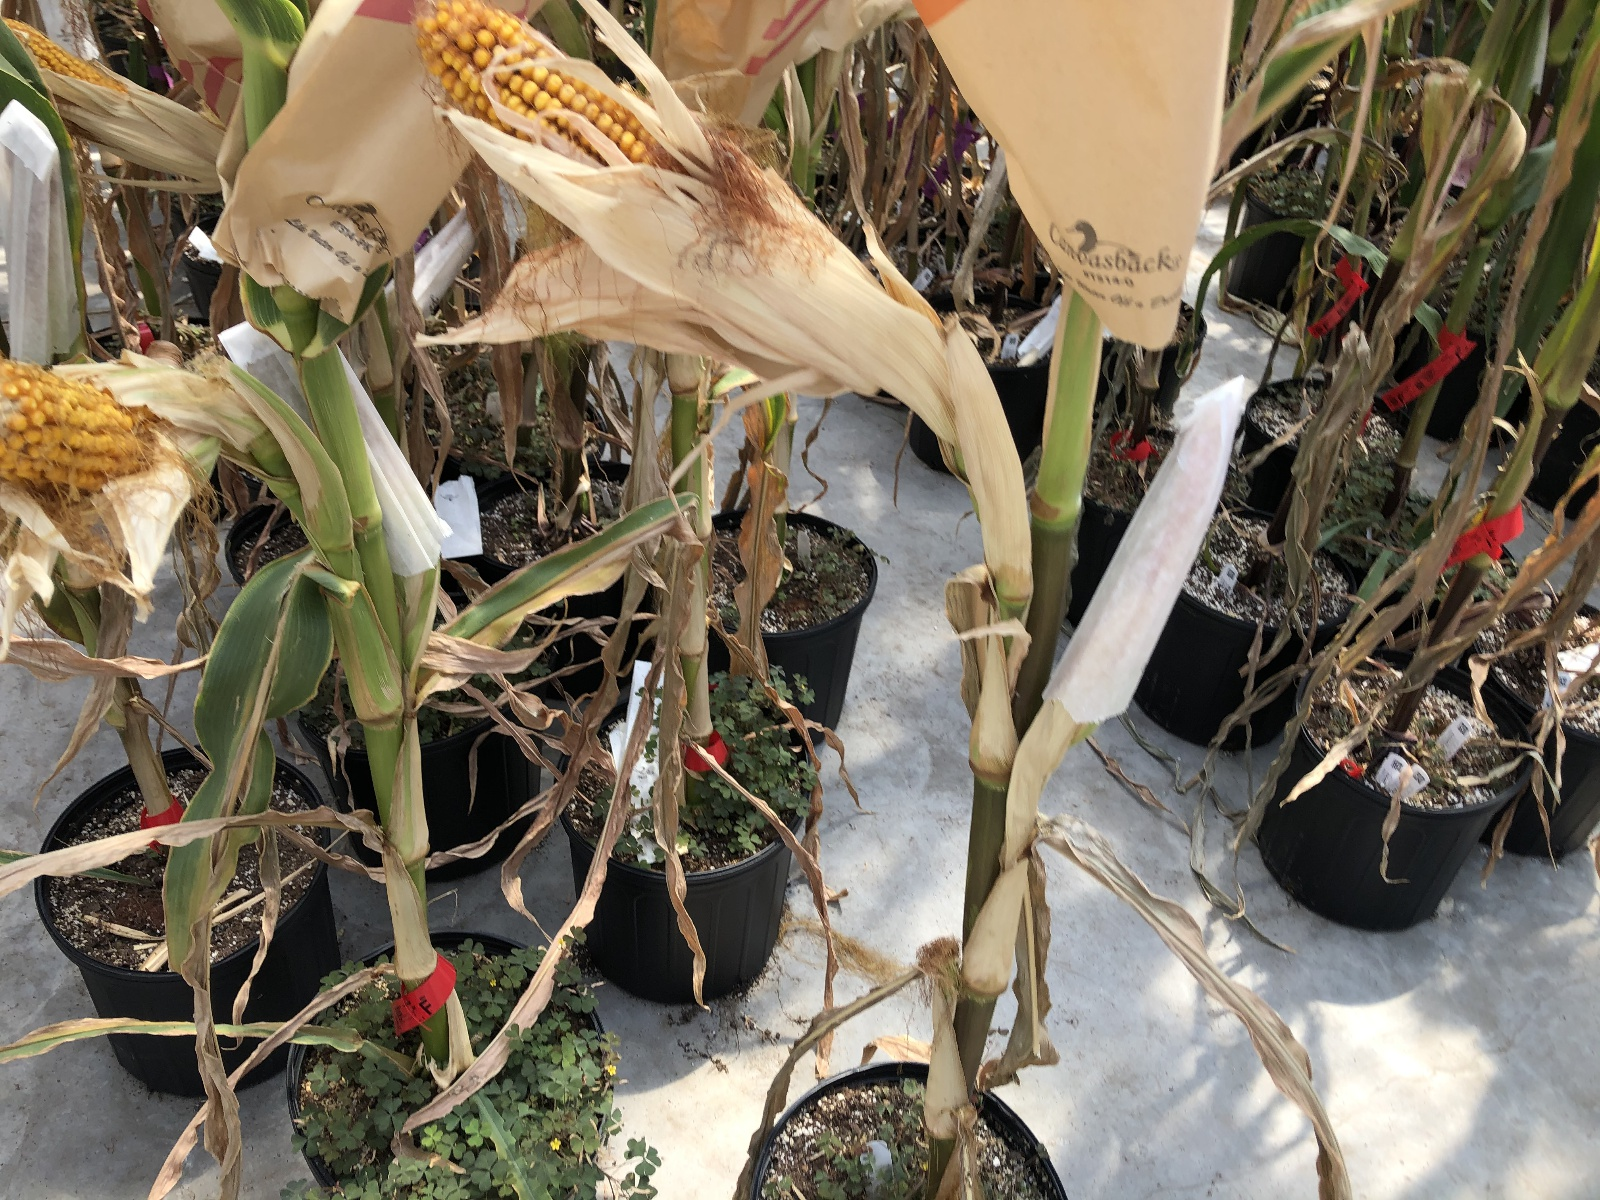ear: (408, 1, 918, 393), (1, 16, 246, 171), (1, 345, 173, 503)
